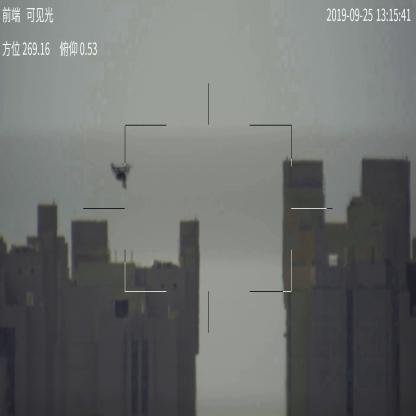uav: (110, 162, 130, 189)
